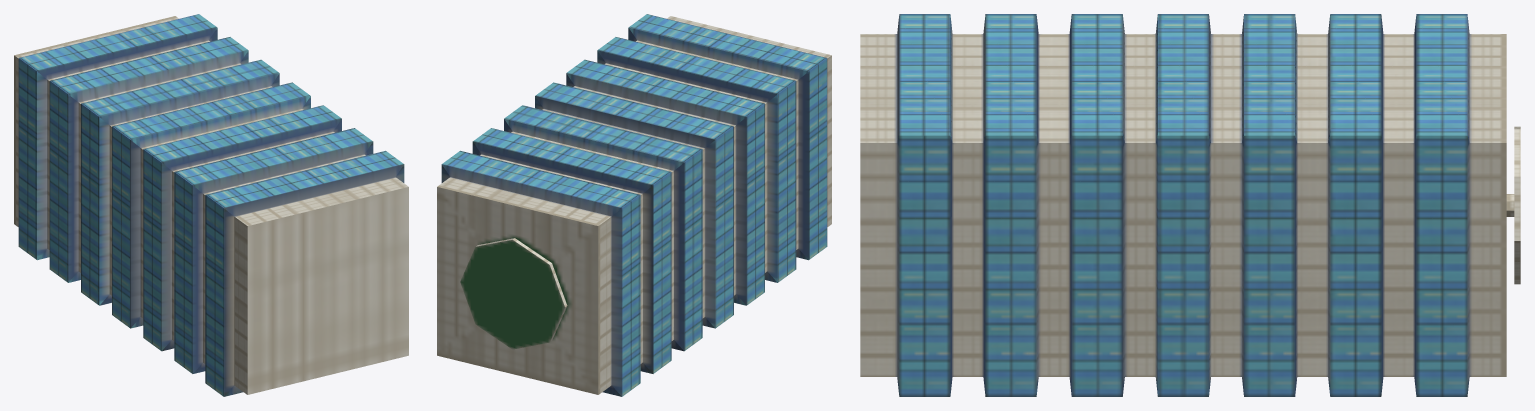
File: buildings-comercial-03.obj
3 renders of one model, left to right at view 1: azimuth 30°, elevation 25°; view 2: azimuth 150°, elevation 25°; view 3: azimuth 270°, elevation 25°, orthographic. The views are drawn at different scales.
Parts seen in each view (by area): view 1: buildings-comercial-03_Cube.095; view 2: buildings-comercial-03_Cube.095; view 3: buildings-comercial-03_Cube.095.
Boxes of the visible parts, box(x1,y1,x2,y2) form: buildings-comercial-03_Cube.095: box(14, 14, 408, 396); buildings-comercial-03_Cube.095: box(437, 14, 831, 396); buildings-comercial-03_Cube.095: box(860, 14, 1520, 396).
Bounding box in the file's own units: 4.46 × 4.46 × 10.22.
